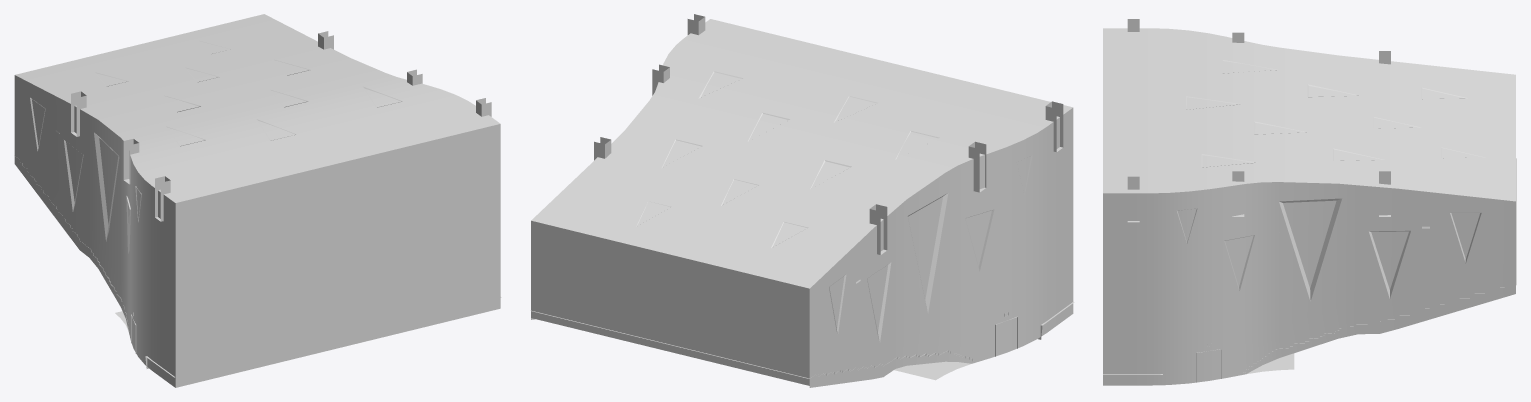
File: movie_room4 backup.fbx
The picture shows the model from 3 angles, left to right: view 1: azimuth 30°, elevation 25°; view 2: azimuth 150°, elevation 25°; view 3: azimuth 270°, elevation 25°; orthographic projection. The views are drawn at different scales.
Parts seen in each view (by area): view 1: 2.Room.Front.Bottom, 1.Room.Top.Back, 3.Room.Sides, 5.Stage, 6.Tris; view 2: 1.Room.Top.Back, 3.Room.Sides, 5.Stage, 6.Tris, 2.Room.Front.Bottom; view 3: 3.Room.Sides, 1.Room.Top.Back, 6.Tris, 5.Stage, 2.Room.Front.Bottom.
Boxes of the visible parts, x1,y1,x2,y2 form: 2.Room.Front.Bottom: [115, 124, 500, 387]; 1.Room.Top.Back: [15, 14, 500, 202]; 3.Room.Sides: [14, 75, 175, 387]; 5.Stage: [55, 31, 501, 377]; 6.Tris: [30, 41, 402, 253]; 1.Room.Top.Back: [531, 19, 1072, 385]; 3.Room.Sides: [531, 108, 1073, 387]; 5.Stage: [594, 14, 1074, 339]; 6.Tris: [636, 71, 1032, 342]; 2.Room.Front.Bottom: [894, 361, 971, 380]; 3.Room.Sides: [1103, 182, 1515, 385]; 1.Room.Top.Back: [1103, 28, 1515, 201]; 6.Tris: [1177, 60, 1485, 301]; 5.Stage: [1103, 19, 1429, 374]; 2.Room.Front.Bottom: [1246, 353, 1294, 374].
Size of the model in its own units: 2645 by 1525 by 2756.
